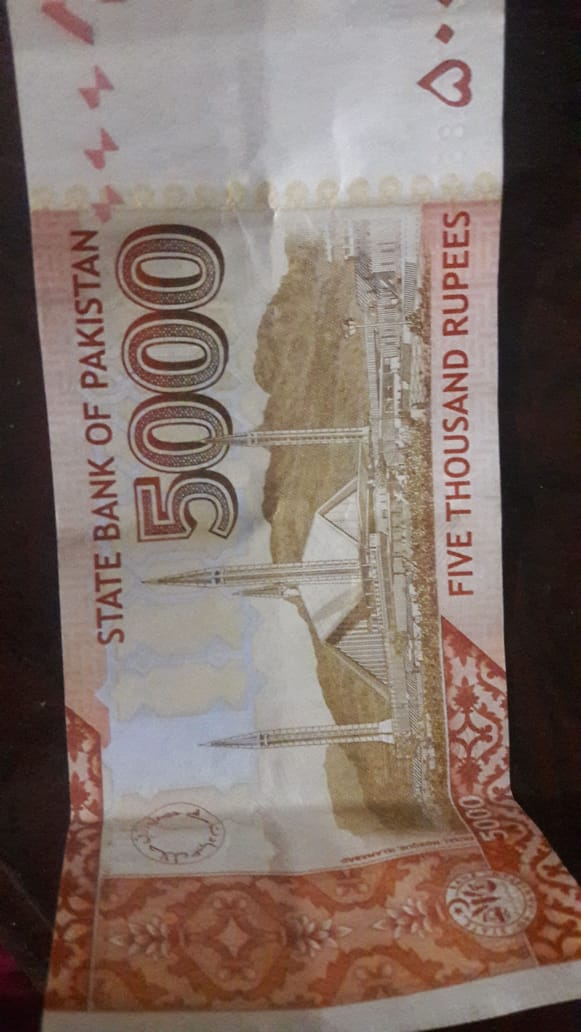5000 rupee: (14, 13, 561, 1023)
